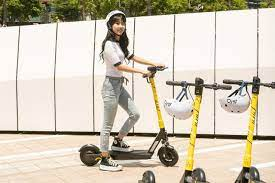kick_handler: (164, 78, 230, 91), (224, 77, 275, 92)
kick_neck: (188, 96, 202, 171), (245, 96, 259, 167), (150, 79, 164, 136)
kick_wheel: (159, 145, 179, 166), (80, 144, 98, 166)
